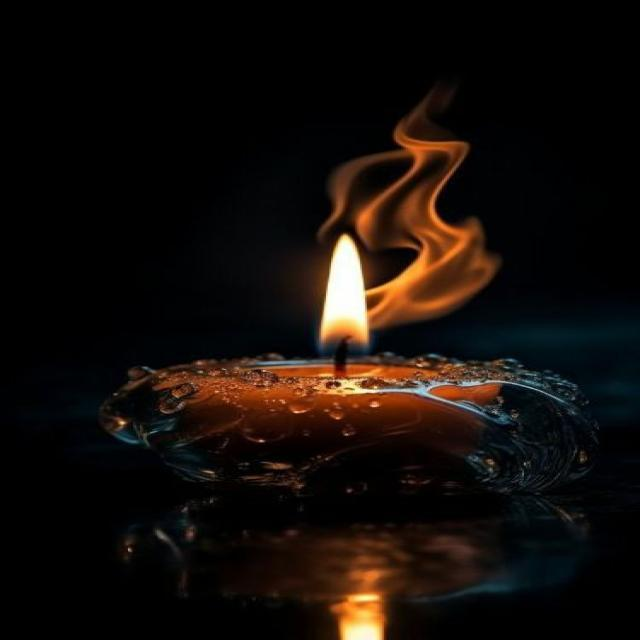Fire: (254, 203, 510, 370)
